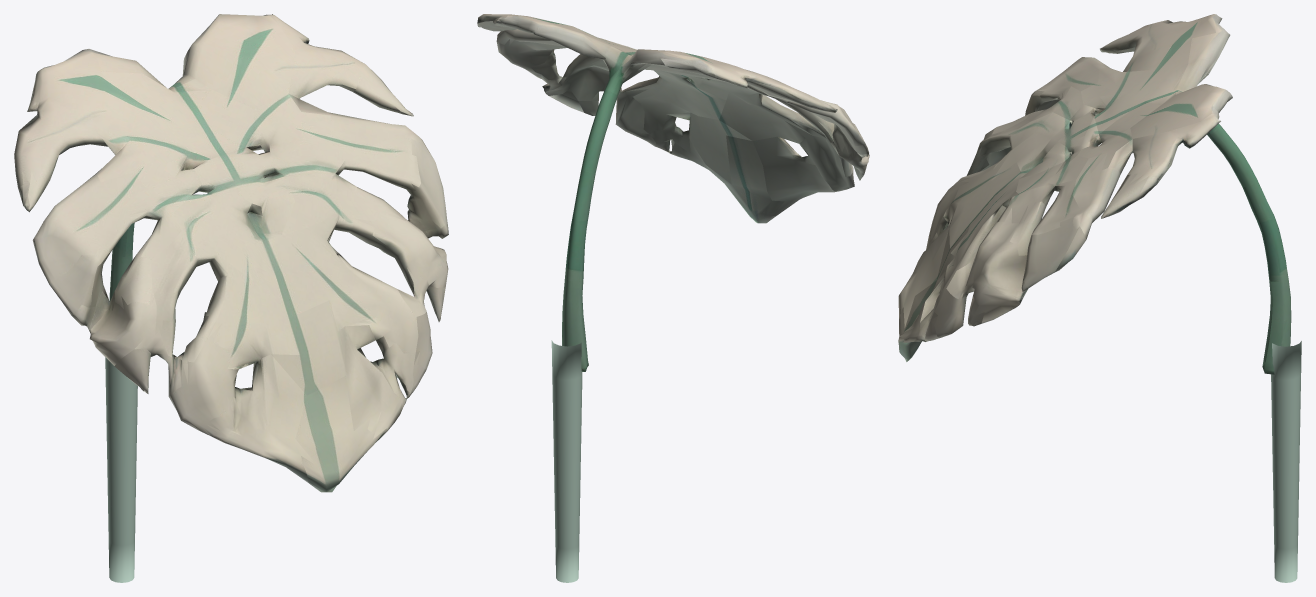
File: mon_fullalbo.glb
3 renders of one model, left to right at view 1: azimuth 30°, elevation 25°; view 2: azimuth 150°, elevation 25°; view 3: azimuth 270°, elevation 25°, orthographic. The views are drawn at different scales.
Parts seen in each view (by area): view 1: GLTF_0, petiole; view 2: GLTF_0, petiole; view 3: GLTF_0, petiole.
Part boxes in pixels (box(x1,y1,x2,y2)): GLTF_0: box(14, 14, 448, 492); petiole: box(105, 357, 137, 582); GLTF_0: box(477, 14, 869, 371); petiole: box(551, 340, 582, 582); GLTF_0: box(898, 14, 1291, 374); petiole: box(1271, 341, 1301, 582).
Bounding box in the file's own units: 2 × 2.75 × 1.95.
2 materials, 1 textured.
